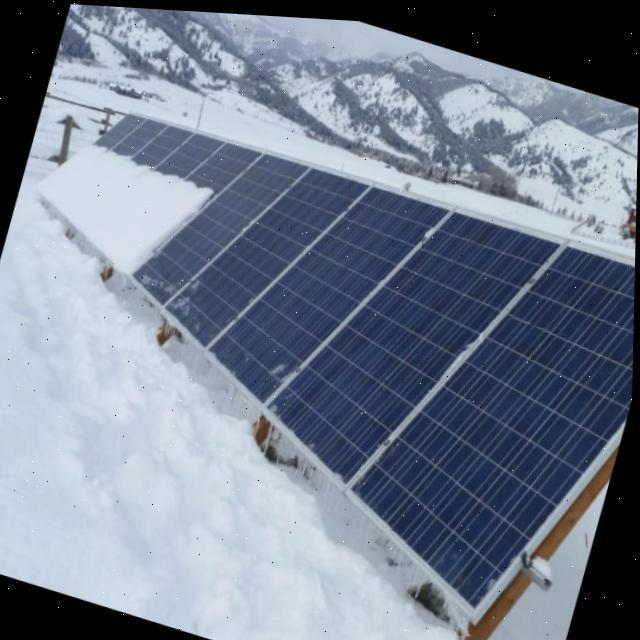Anomaly Solar Panel: (40, 63, 267, 280)
Normal Solar Panel: (346, 202, 636, 602), (269, 168, 563, 477), (211, 156, 452, 399), (163, 144, 379, 348), (135, 135, 312, 303)
Snow: (41, 97, 217, 273)
